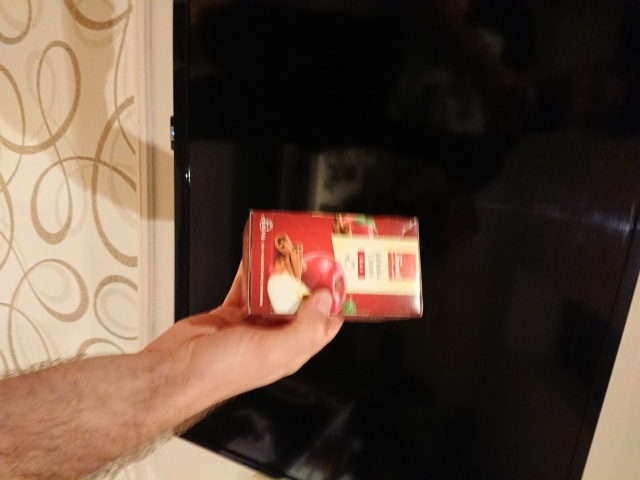Franck Apple Cinnamon Tea 60g: (238, 206, 426, 323)
